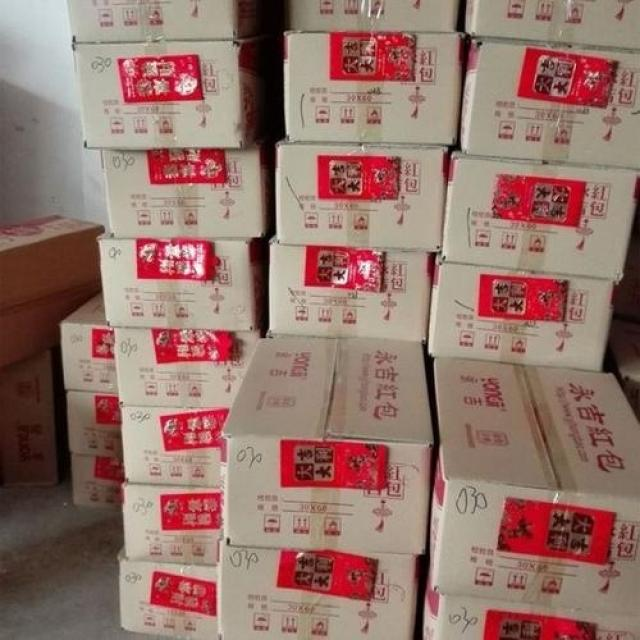box: (428, 359, 638, 618), (225, 338, 431, 554), (442, 150, 639, 280), (459, 36, 638, 171), (428, 255, 615, 371), (73, 37, 261, 150), (220, 538, 418, 639), (277, 135, 450, 250), (284, 34, 460, 146), (101, 130, 274, 241), (268, 234, 436, 342), (97, 228, 267, 331), (420, 565, 637, 639), (113, 327, 260, 410), (0, 212, 103, 310), (0, 278, 103, 371), (121, 404, 231, 490), (118, 546, 219, 638), (124, 482, 225, 565), (466, 3, 638, 48), (66, 2, 258, 42), (1, 350, 55, 486), (60, 291, 118, 393), (289, 1, 459, 30), (67, 392, 122, 458)
